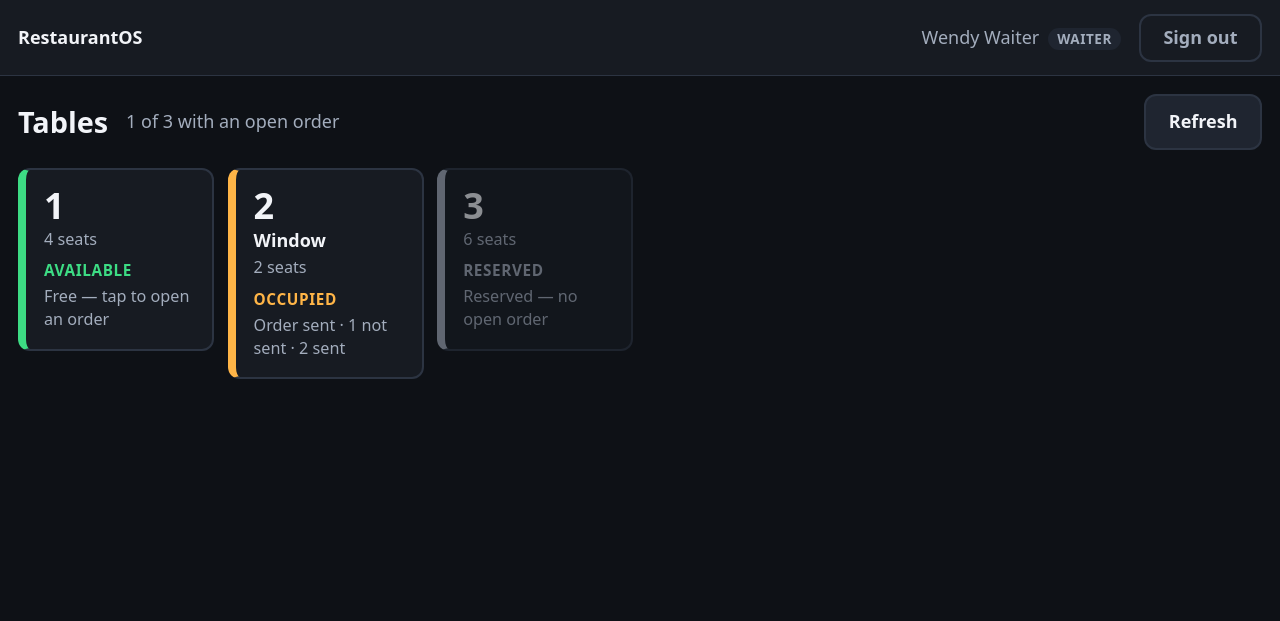
it: Sending a round › does not offer to send items without a station
The width and height of the screenshot is (1280, 621).
Click the button with aria-label "Table 2, Window" at (326,274), box [228,168,424,379]
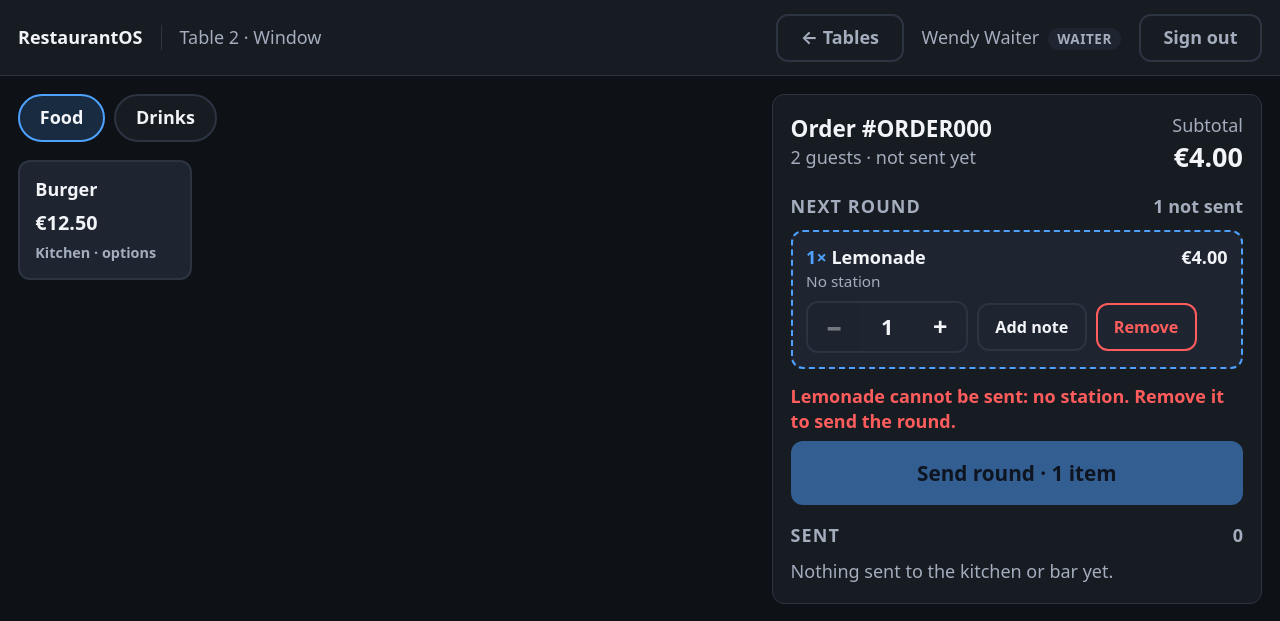
Expected: the text "Lemonade cannot be sent: no station. Remove it to send the round." is shown, [791,384,1243,434]
Expected: the button "Send round · 1 item" is disabled, [791,441,1243,505]
